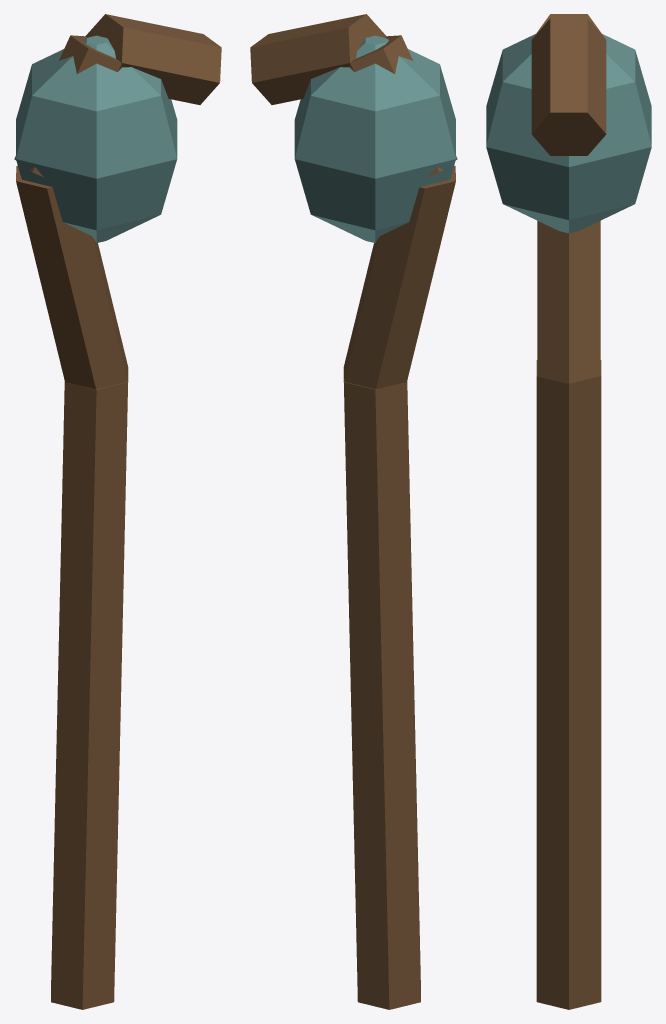
The model's file is mysticStaff.glb.
The picture shows the model from 3 angles, left to right: view 1: azimuth 30°, elevation 25°; view 2: azimuth 150°, elevation 25°; view 3: azimuth 270°, elevation 25°; orthographic projection. The views are drawn at different scales.
Parts seen in each view (by area): view 1: mysticStaff; view 2: mysticStaff; view 3: mysticStaff.
Boxes of the visible parts, box(x1,y1,x2,y2) form: mysticStaff: box(14, 14, 221, 1009); mysticStaff: box(250, 14, 457, 1009); mysticStaff: box(486, 14, 651, 1009).
Size of the model in its own units: 0.2131 by 1 by 0.1514.
